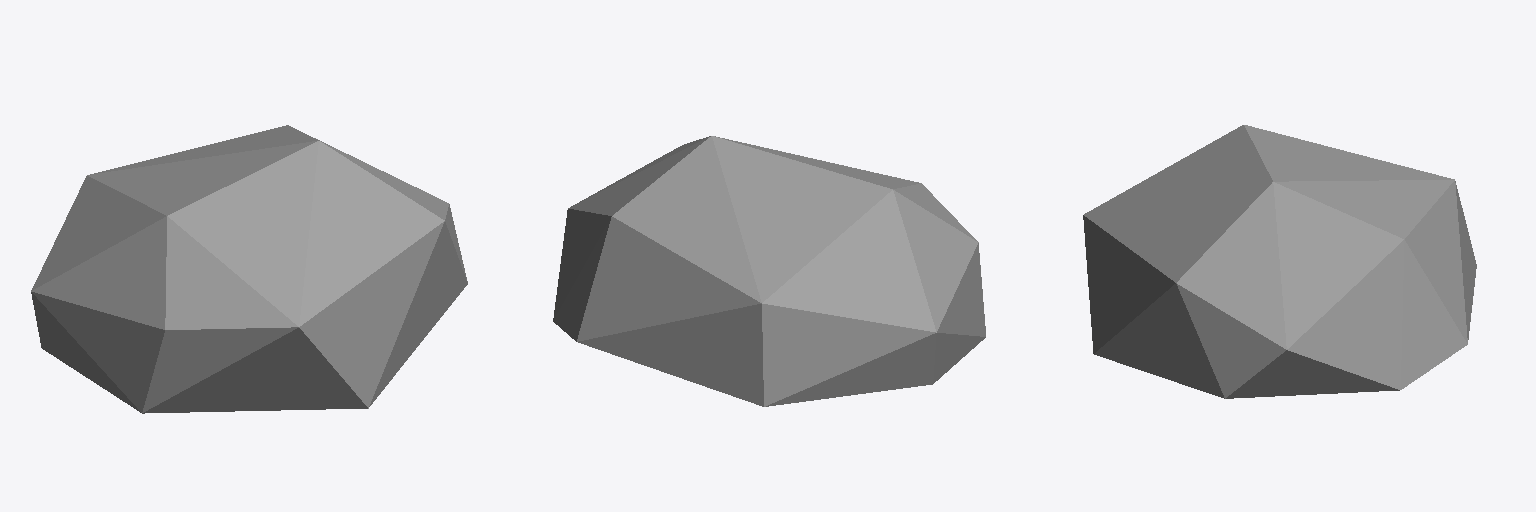
File: Low_Poly_Rock_004.obj
The picture shows the model from 3 angles: view 1: azimuth 30°, elevation 25°; view 2: azimuth 150°, elevation 25°; view 3: azimuth 270°, elevation 25°; orthographic projection.
Visible parts, largest first — view 1: Low_Poly_Rock_004_Icosphere.011; view 2: Low_Poly_Rock_004_Icosphere.011; view 3: Low_Poly_Rock_004_Icosphere.011.
Boxes of the visible parts, box(x1,y1,x2,y2) form: Low_Poly_Rock_004_Icosphere.011: box(31, 125, 467, 413); Low_Poly_Rock_004_Icosphere.011: box(553, 136, 985, 406); Low_Poly_Rock_004_Icosphere.011: box(1083, 125, 1476, 398).
Bounding box in the file's own units: 2.13 × 1.07 × 1.84.